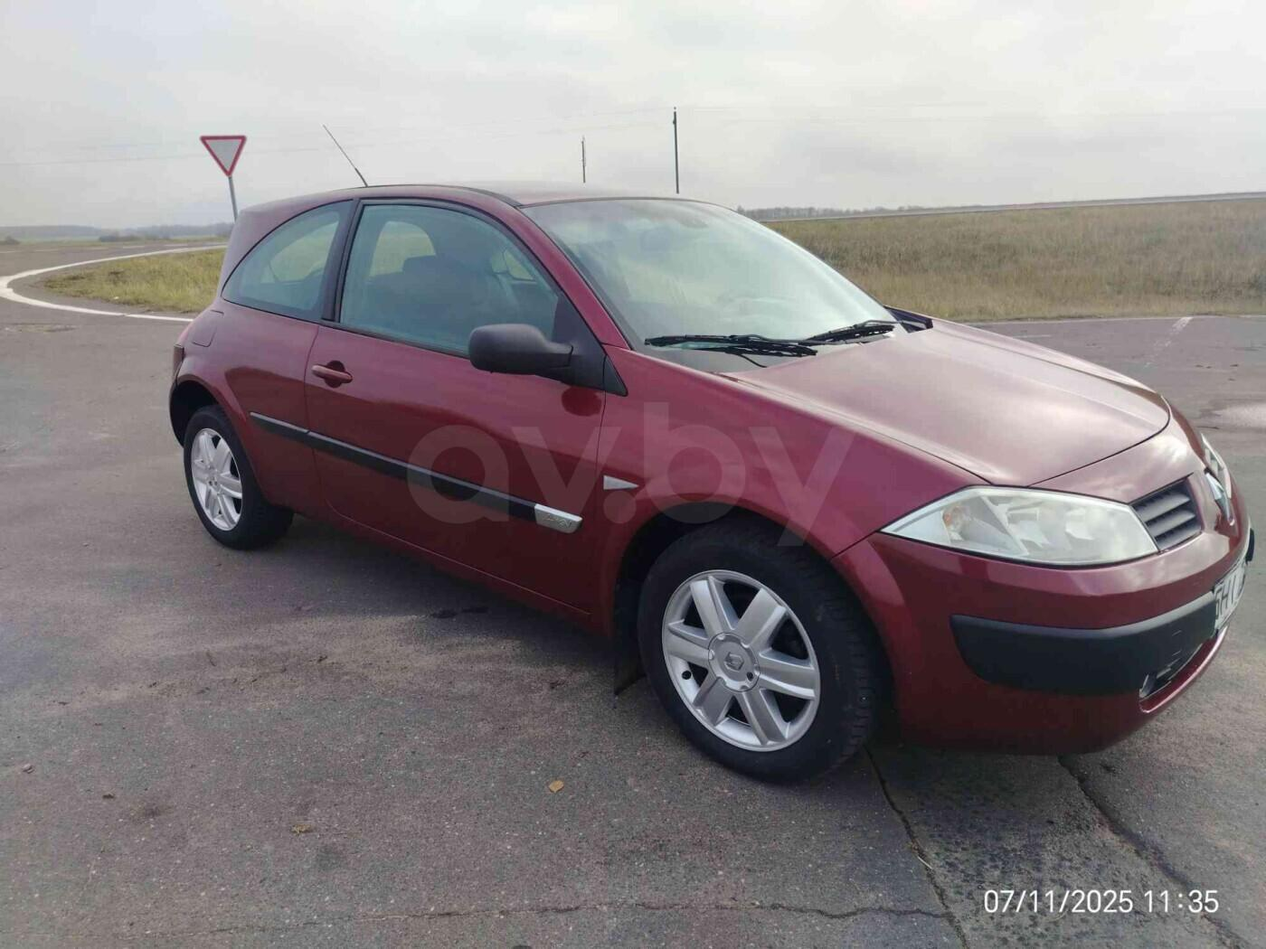Megane_2002-2006: (171, 167, 1254, 772)
